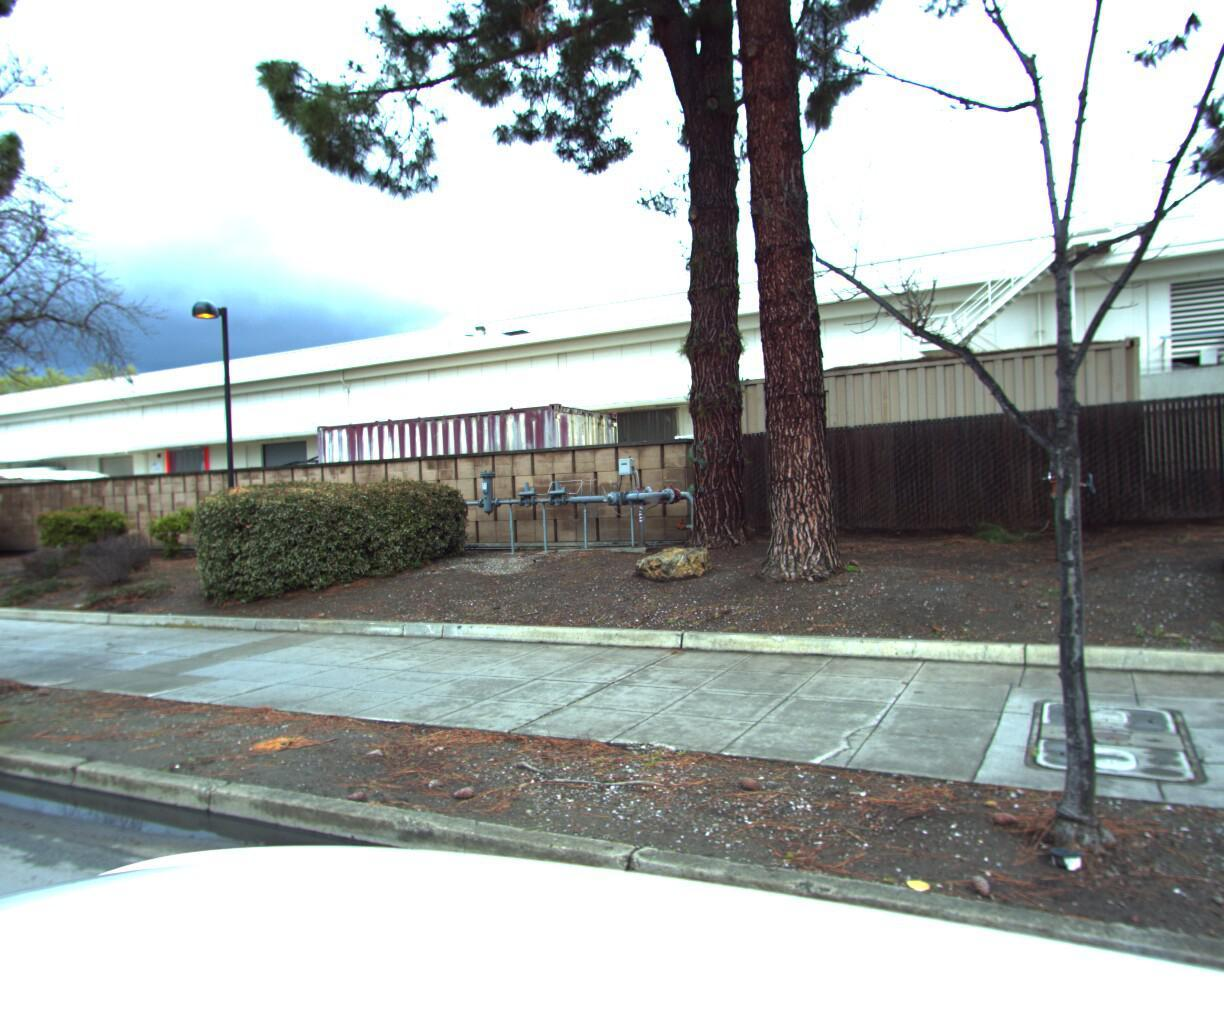truck: (937, 258, 1224, 531)
